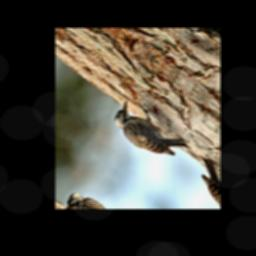Woodpecker: (107, 90, 195, 177)
